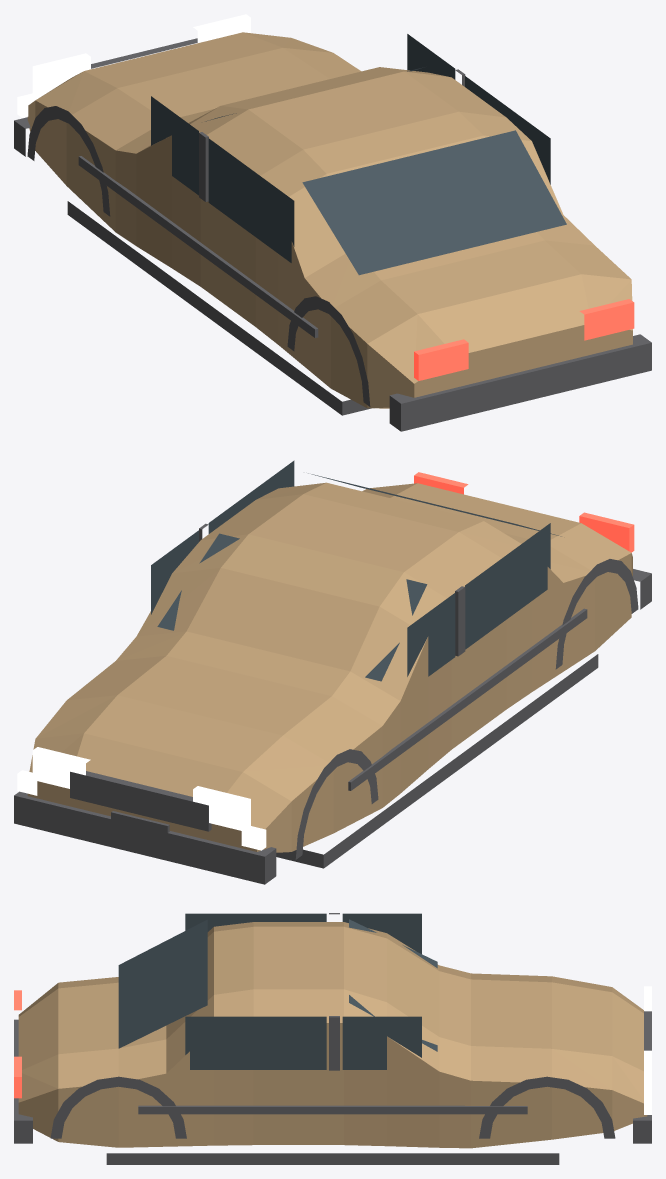
The model's file is zastava_rounded.glb.
3 renders of one model, top to bottom at view 1: azimuth 30°, elevation 25°; view 2: azimuth 150°, elevation 25°; view 3: azimuth 270°, elevation 25°, orthographic. The views are drawn at different scales.
Parts seen in each view (by area): view 1: car_body; view 2: car_body; view 3: car_body.
Boxes of the visible parts, x1,y1,x2,y2 form: car_body: [14, 14, 651, 431]; car_body: [14, 460, 651, 884]; car_body: [14, 913, 651, 1164].
Size of the model in its own units: 1.63 by 1.08 by 4.02.
